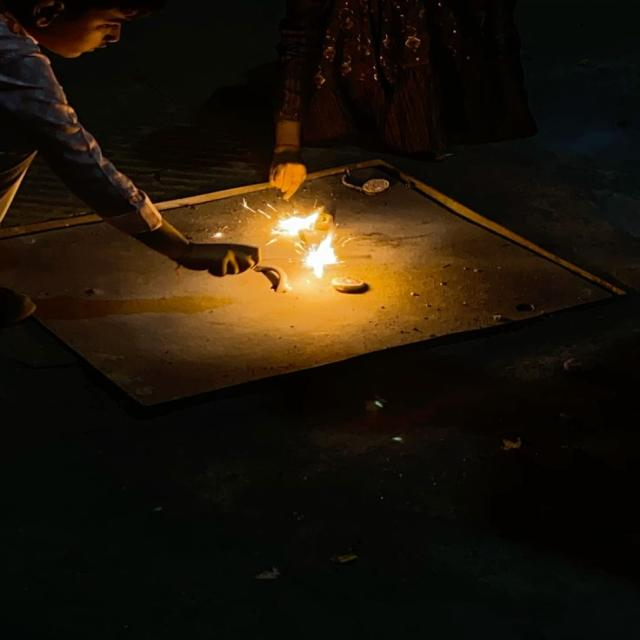fire: (301, 232, 335, 279), (268, 210, 324, 238)
